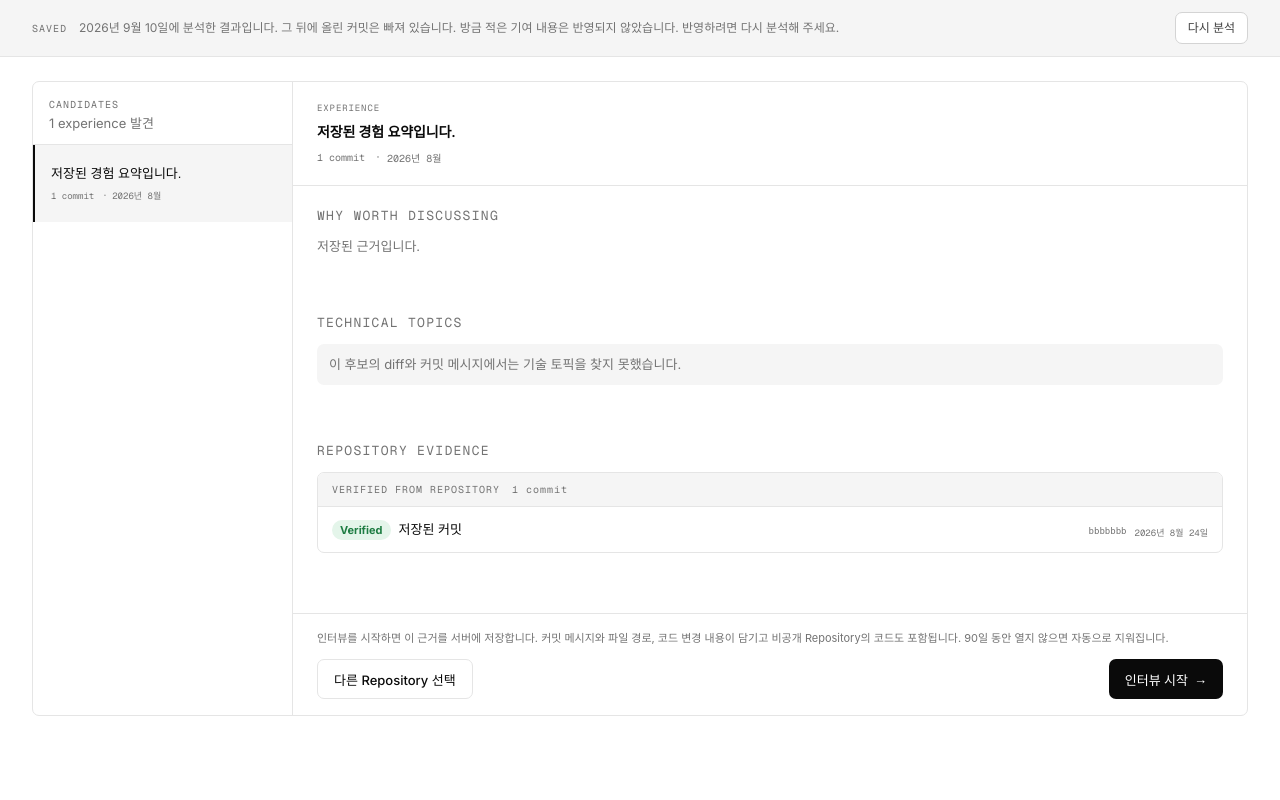
RepositoryAnalysisView 저장된 분석으로 열기 › 다시 분석하면 저장된 결과 안내가 사라지고 분석이 시작된다
This screenshot has width=1280, height=800.
Expected: the text "그 뒤에 올린 커밋은 빠져 있습니다" is shown, [168,20,456,35]
Click the button "다시 분석".
click(1211, 28)  # box [1175,12,1248,44]
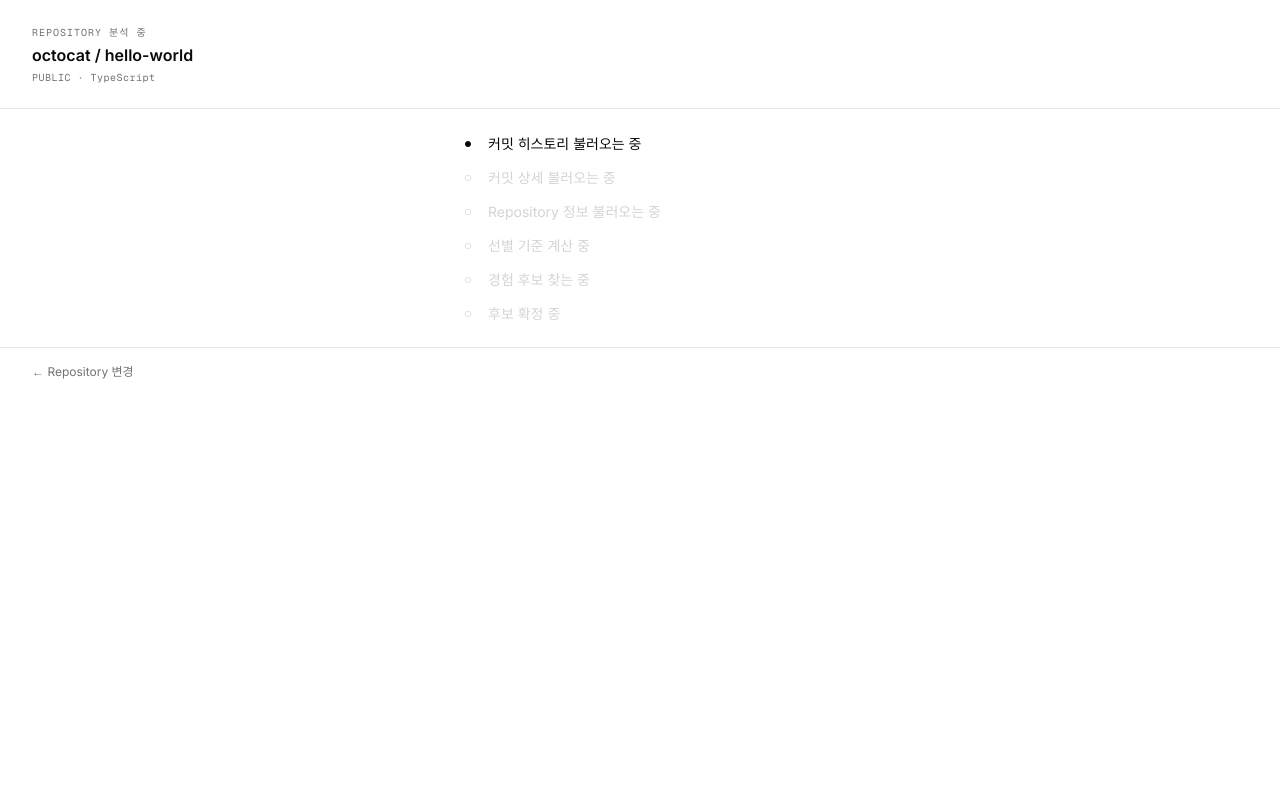
Now the text "그 뒤에 올린 커밋은 빠져 있습니다" is gone
